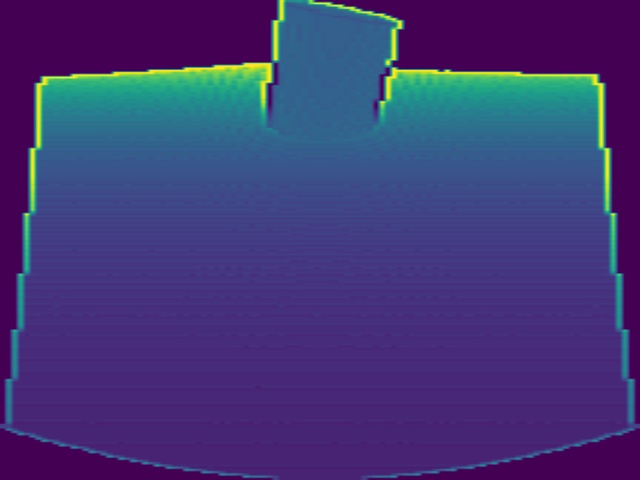cylinder: (260, 1, 402, 139)
